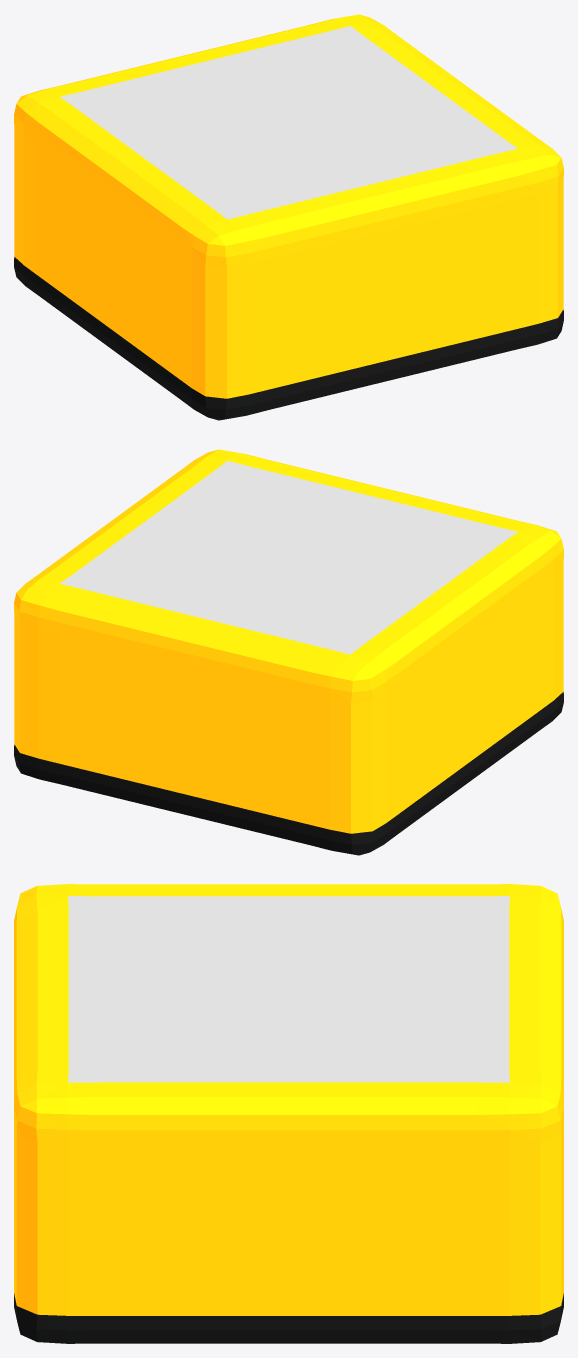
Rendered from chassis.dae.
The picture shows the model from 3 angles, top to bottom: view 1: azimuth 30°, elevation 25°; view 2: azimuth 150°, elevation 25°; view 3: azimuth 270°, elevation 25°; orthographic projection. The views are drawn at different scales.
Parts seen in each view (by area): view 1: Cube; view 2: Cube; view 3: Cube.
Boxes of the visible parts, left/top/right/bottom form: Cube: left=14, top=14, right=563, bottom=420; Cube: left=14, top=449, right=563, bottom=855; Cube: left=14, top=884, right=563, bottom=1343.
Bounding box in the file's own units: 0.3 × 0.3 × 0.15.
